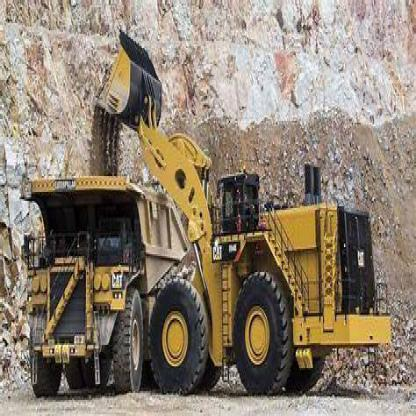bull_dozer/loader/grader: (94, 20, 398, 396)
